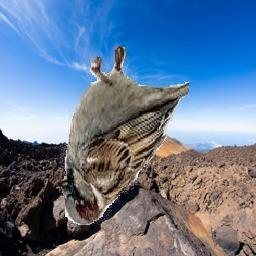Sparrow: (59, 41, 190, 226)
